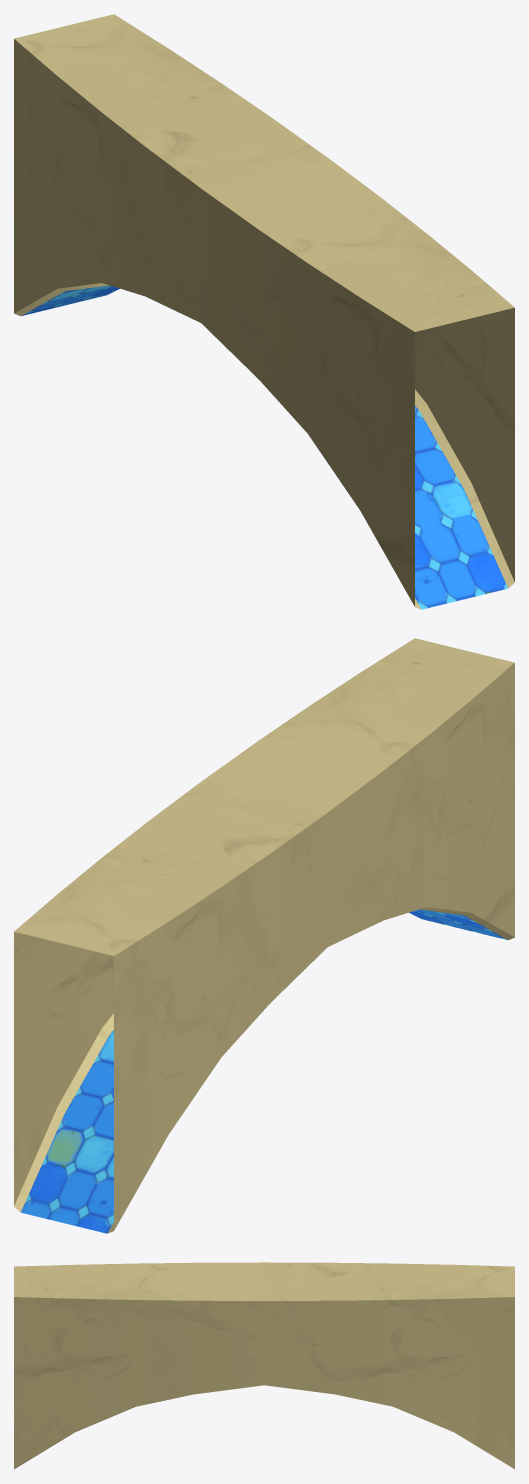
Rendered from V_arch.FBX.
3 views of the same model, one above another, from view 1: azimuth 30°, elevation 25°; view 2: azimuth 150°, elevation 25°; view 3: azimuth 270°, elevation 25° (orthographic). The views are drawn at different scales.
Visible parts, largest first — view 1: Box007; view 2: Box007; view 3: Box007.
Boxes of the visible parts, x1,y1,x2,y2 form: Box007: [14, 14, 514, 609]; Box007: [14, 638, 514, 1233]; Box007: [14, 1262, 514, 1469].
Size of the model in its own units: 84.29 by 178 by 462.
